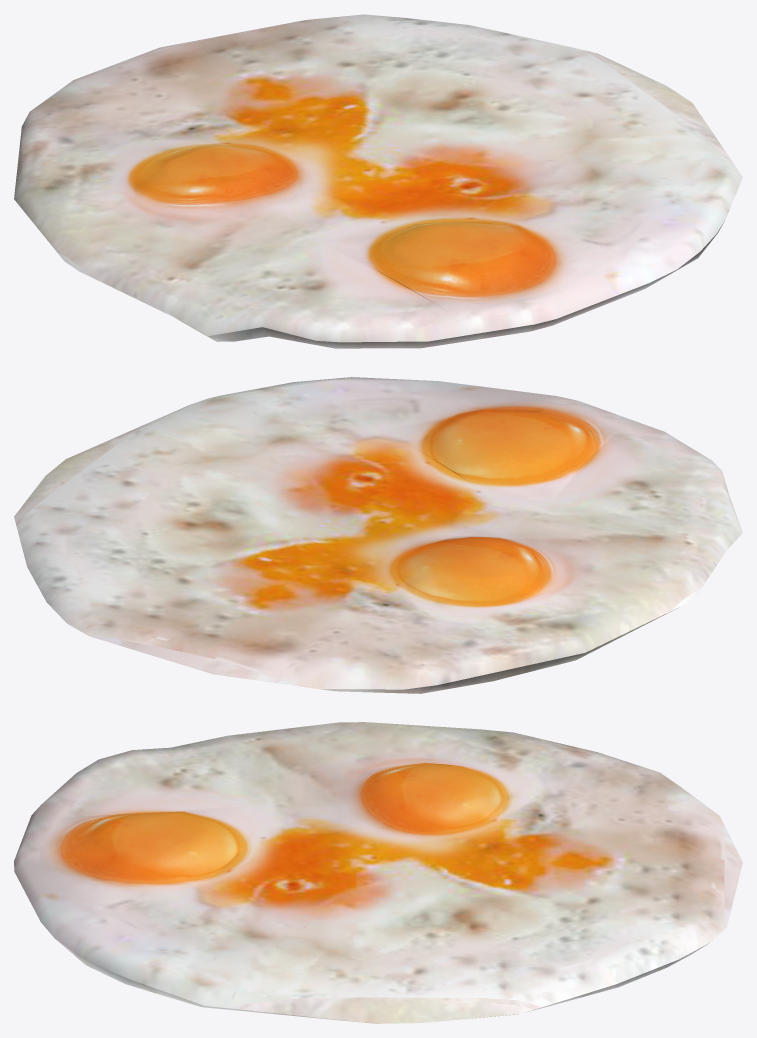
Rendered from Fried eggs.FBX.
3 views of the same model, one above another, from view 1: azimuth 30°, elevation 25°; view 2: azimuth 150°, elevation 25°; view 3: azimuth 270°, elevation 25° (orthographic). The views are drawn at different scales.
Visible parts, largest first — view 1: fried eggs; view 2: fried eggs; view 3: fried eggs.
Boxes of the visible parts, x1,y1,x2,y2 form: fried eggs: (14,14,742,348); fried eggs: (14,377,742,693); fried eggs: (14,722,742,1023).
Size of the model in its own units: 204 by 14.59 by 211.
1 material, 1 textured.
